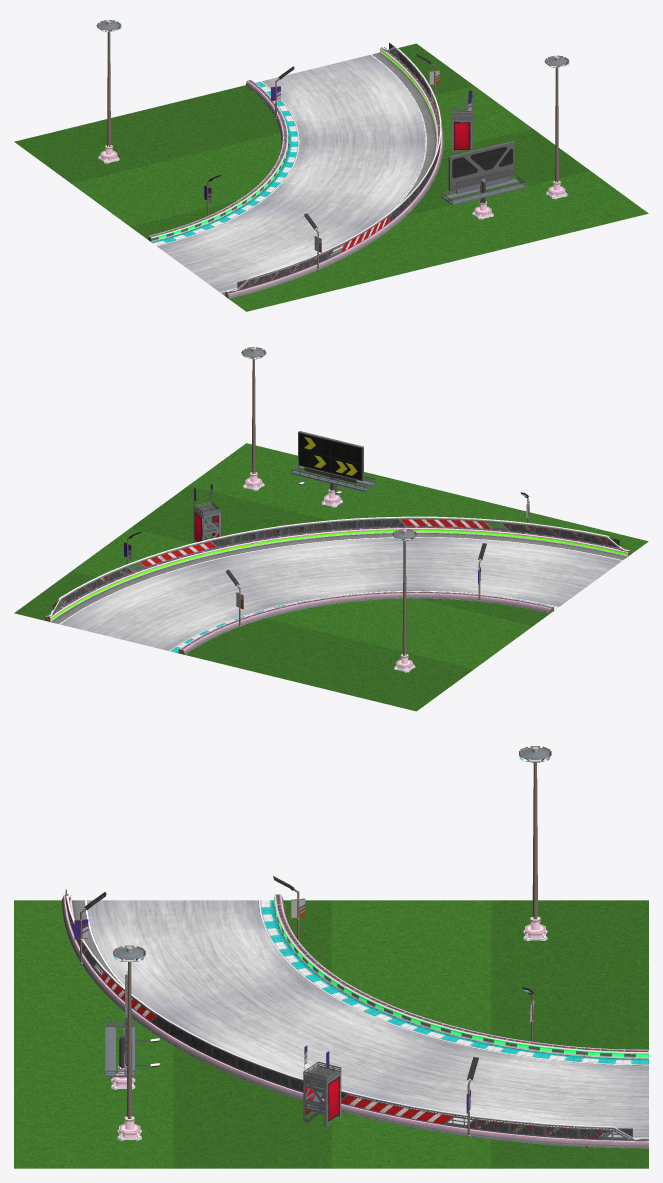
Rendered from T2 - Ground.fbx.
The picture shows the model from 3 angles, top to bottom: view 1: azimuth 30°, elevation 25°; view 2: azimuth 150°, elevation 25°; view 3: azimuth 270°, elevation 25°; orthographic projection. The views are drawn at different scales.
Visible parts, largest first — view 1: standard_ground_grass1, drift_road, wall_drift1, prop_billboard_right, standard_arrow_right, pro_camera_tower, pro_floodlight_overhead__1_, pro_floodlight_overhead; view 2: standard_ground_grass1, drift_road, wall_drift1, standard_arrow_right, prop_billboard_right, pro_camera_tower, pro_floodlight_overhead__1_, pro_floodlight_overhead; view 3: standard_ground_grass1, drift_road, wall_drift1, standard_arrow_right, pro_camera_tower, prop_billboard_right, pro_floodlight_overhead__1_, pro_floodlight_overhead.
Part boxes in pixels (bbox=[...]): standard_ground_grass1: bbox=[14, 43, 648, 311]; drift_road: bbox=[151, 52, 436, 295]; wall_drift1: bbox=[147, 47, 443, 298]; prop_billboard_right: bbox=[441, 141, 526, 206]; standard_arrow_right: bbox=[225, 42, 441, 293]; pro_camera_tower: bbox=[451, 108, 472, 152]; pro_floodlight_overhead__1_: bbox=[544, 55, 569, 182]; pro_floodlight_overhead: bbox=[96, 20, 121, 146]; standard_ground_grass1: bbox=[14, 443, 648, 711]; drift_road: bbox=[50, 533, 627, 653]; wall_drift1: bbox=[44, 527, 631, 654]; standard_arrow_right: bbox=[47, 516, 629, 617]; prop_billboard_right: bbox=[291, 431, 375, 494]; pro_camera_tower: bbox=[193, 501, 220, 543]; pro_floodlight_overhead__1_: bbox=[241, 347, 266, 473]; pro_floodlight_overhead: bbox=[392, 528, 416, 655]; standard_ground_grass1: bbox=[14, 900, 648, 1168]; drift_road: bbox=[72, 900, 648, 1138]; wall_drift1: bbox=[61, 894, 648, 1148]; standard_arrow_right: bbox=[65, 889, 648, 1141]; pro_camera_tower: bbox=[303, 1061, 341, 1127]; prop_billboard_right: bbox=[105, 974, 159, 1077]; pro_floodlight_overhead__1_: bbox=[113, 945, 145, 1118]; pro_floodlight_overhead: bbox=[519, 746, 551, 919].
Size of the model in its own units: 12801 by 4232 by 12801.
